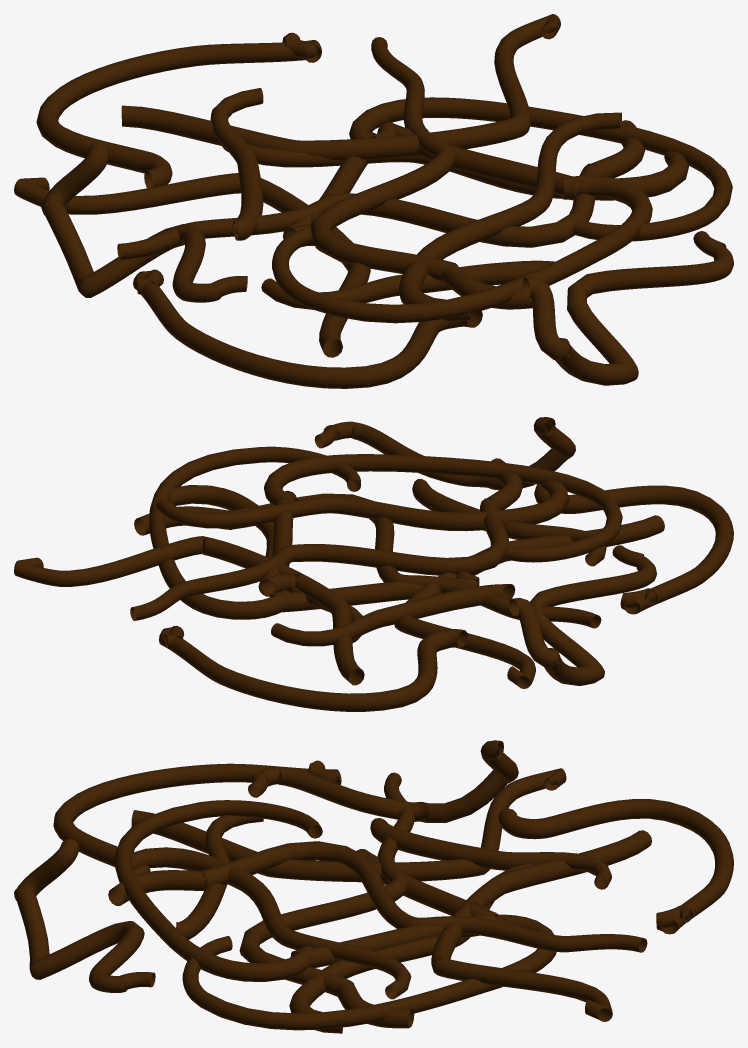
File: l_korzonki.fbx
3 renders of one model, top to bottom at view 1: azimuth 30°, elevation 25°; view 2: azimuth 150°, elevation 25°; view 3: azimuth 270°, elevation 25°, orthographic. The views are drawn at different scales.
Visible parts, largest first — view 1: BézierCurve; view 2: BézierCurve; view 3: BézierCurve.
Boxes of the visible parts, left/top/right/bottom form: BézierCurve: left=14, top=14, right=733, bottom=388; BézierCurve: left=14, top=417, right=733, bottom=711; BézierCurve: left=14, top=740, right=733, bottom=1033.
Size of the model in its own units: 5.02 by 5.81 by 1.01.
